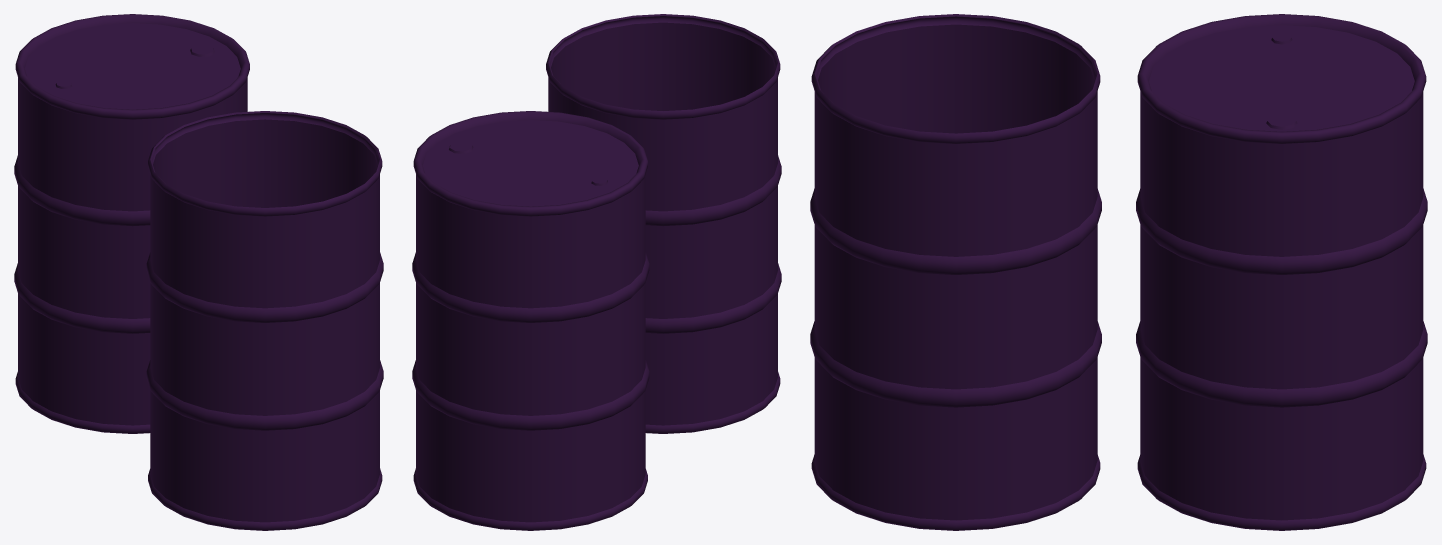
File: Barriles.fbx
3 views of the same model, side by side, from view 1: azimuth 30°, elevation 25°; view 2: azimuth 150°, elevation 25°; view 3: azimuth 270°, elevation 25° (orthographic). The views are drawn at different scales.
Visible parts, largest first — view 1: g Cylinder002, g Cylinder001; view 2: g Cylinder001, g Cylinder002; view 3: g Cylinder001, g Cylinder002.
Boxes of the visible parts, x1,y1,x2,y2 form: g Cylinder002: (146,111,383,530); g Cylinder001: (14,14,249,433); g Cylinder001: (412,111,649,530); g Cylinder002: (546,14,781,433); g Cylinder001: (1136,14,1427,530); g Cylinder002: (810,14,1101,530).
Bounding box in the file's own units: 42.94 × 64.59 × 90.93.
